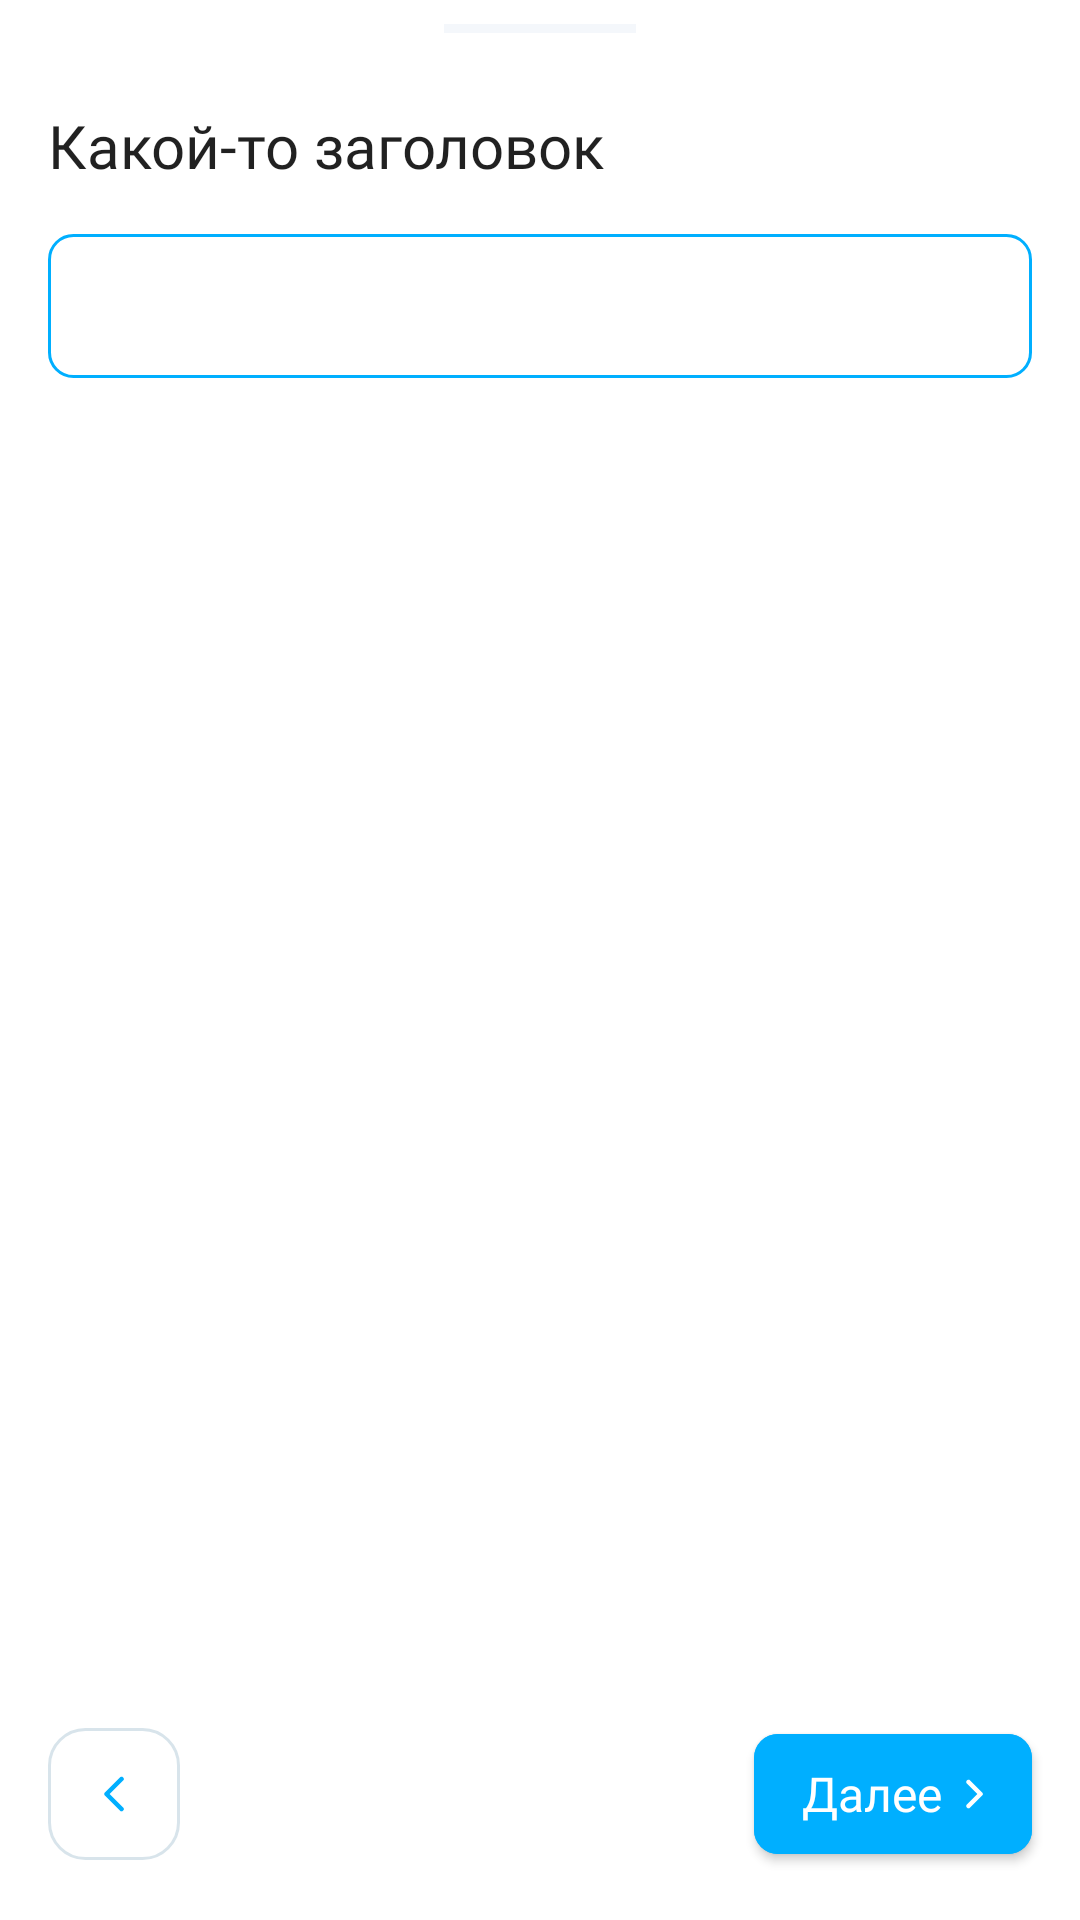

Point at icon controls on the screen. Image size 1080×1920, points as point (x, y).
backbtmarrow: point (114, 1794)
